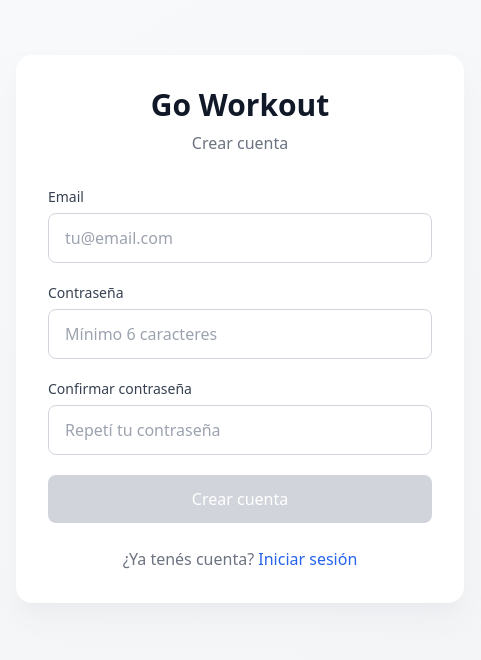
Scenario: RegistroPage › Manejo de errores › muestra mensaje de error genérico para otros errores
The width and height of the screenshot is (481, 660).
Type "test@example.com" into the field labelled "Email".
click(240, 238); type("test@example.com")  # box [48,213,432,263]
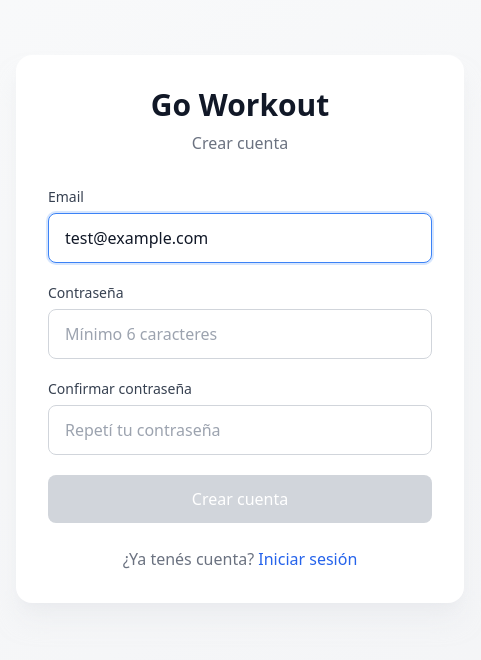
Type "password123" into the password field labelled "Contraseña".
click(240, 334); type("password123")  # box [48,309,432,359]
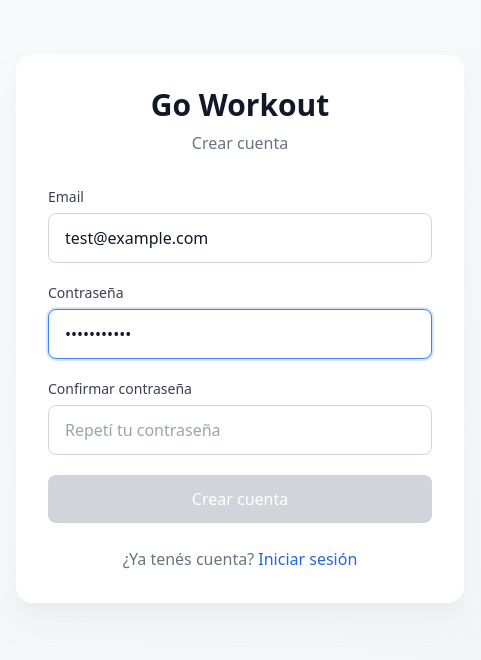
Type "password123" into the password field labelled "Confirmar contraseña".
click(240, 430); type("password123")  # box [48,405,432,455]
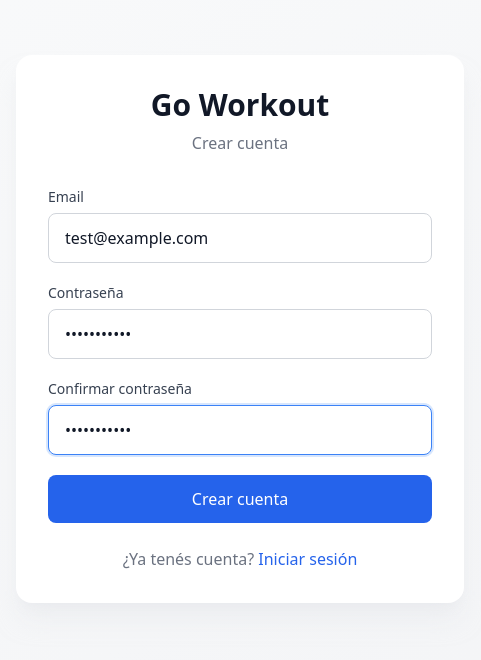
Click the button "Crear cuenta".
click(240, 499)  # box [48,475,432,523]
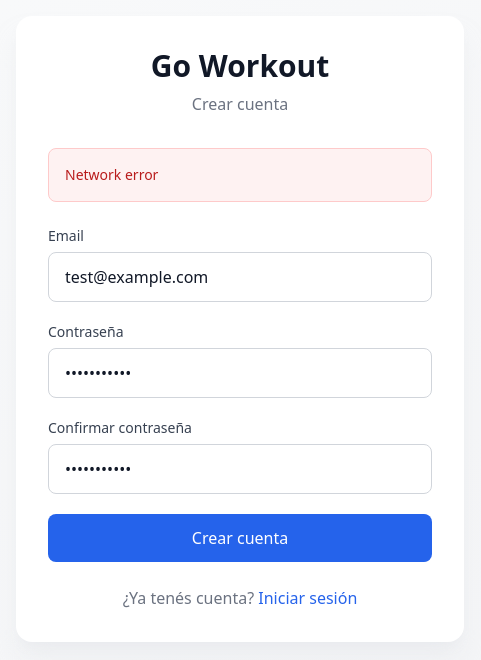
Expected: the text "Network error" is shown, [48,148,432,202]
